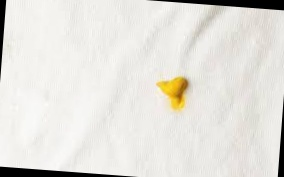mustard: (159, 71, 192, 109)
